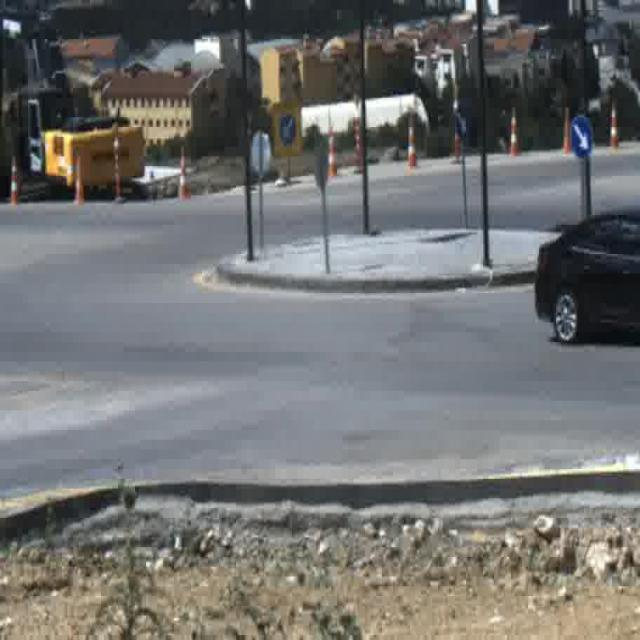Car: (533, 209, 640, 344)
